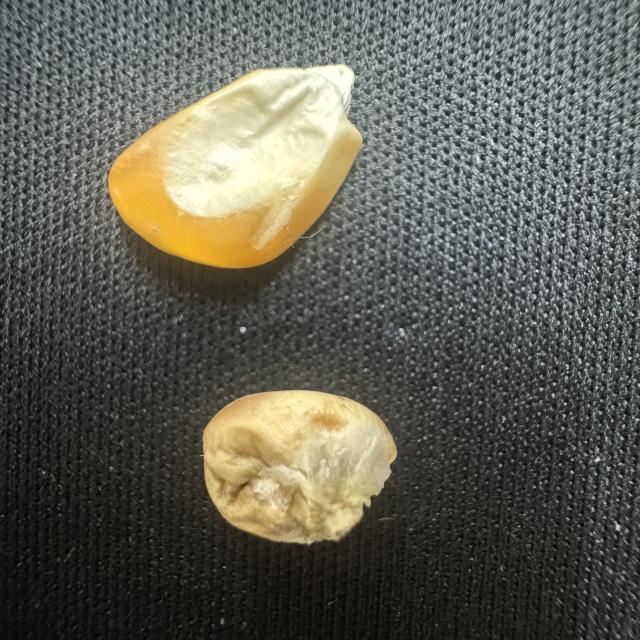Bad-Seed: (176, 384, 411, 550)
Good-Seed: (100, 57, 385, 281)
